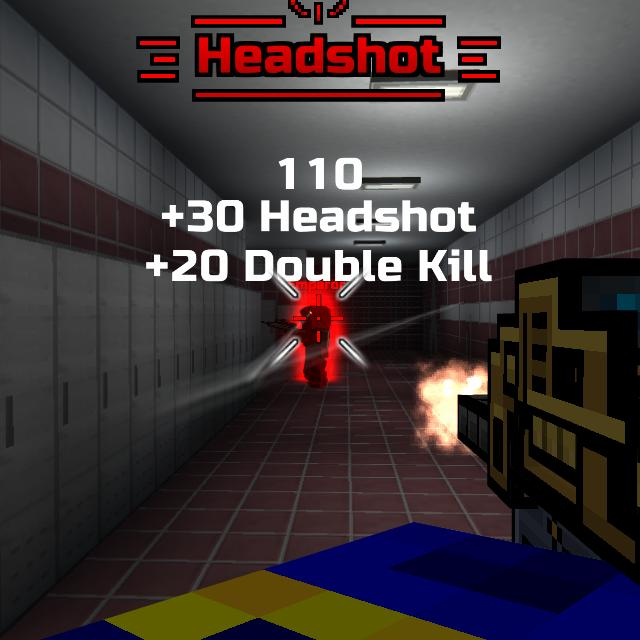Enemy: (294, 306, 330, 388)
